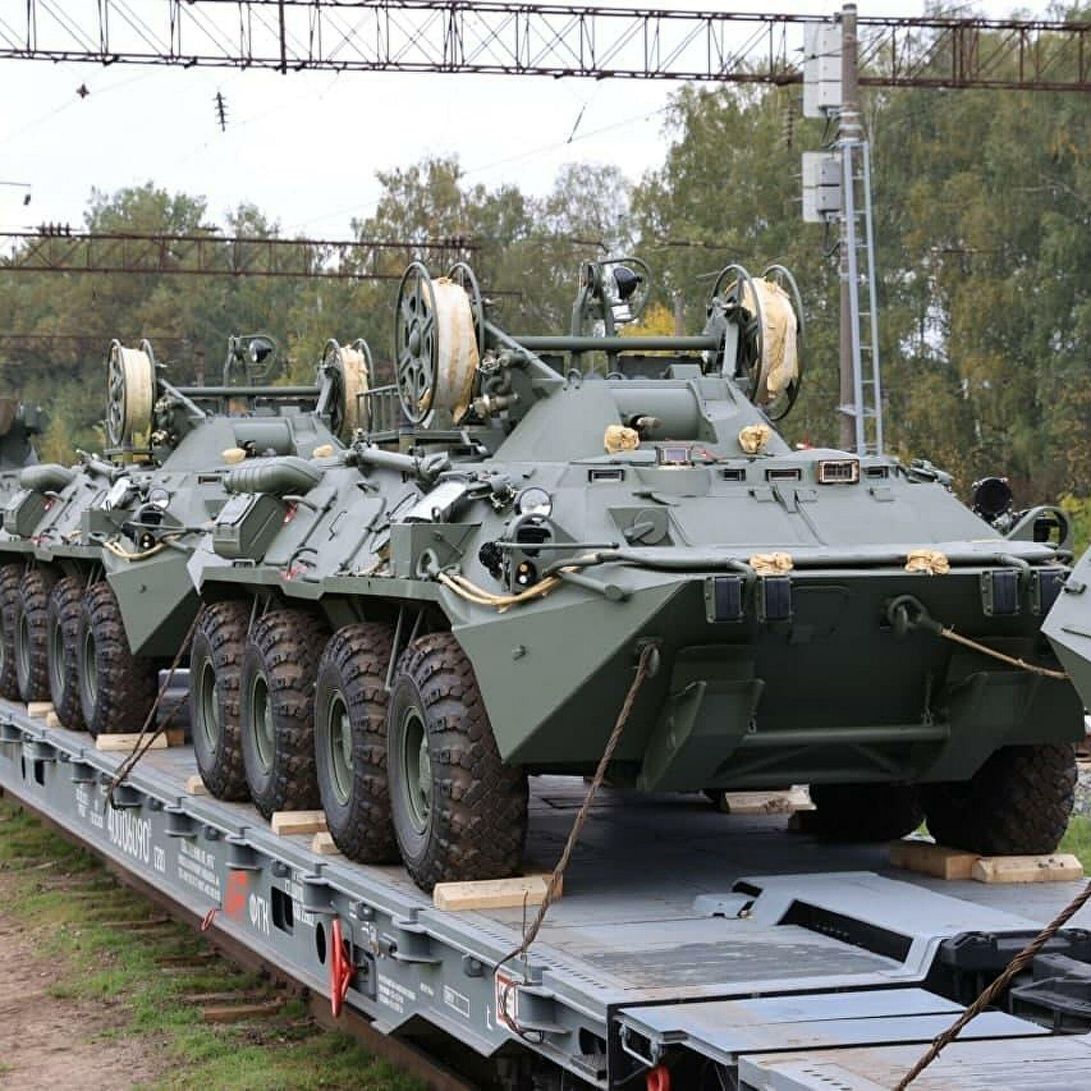tank: (180, 260, 1036, 914), (15, 352, 396, 726)
